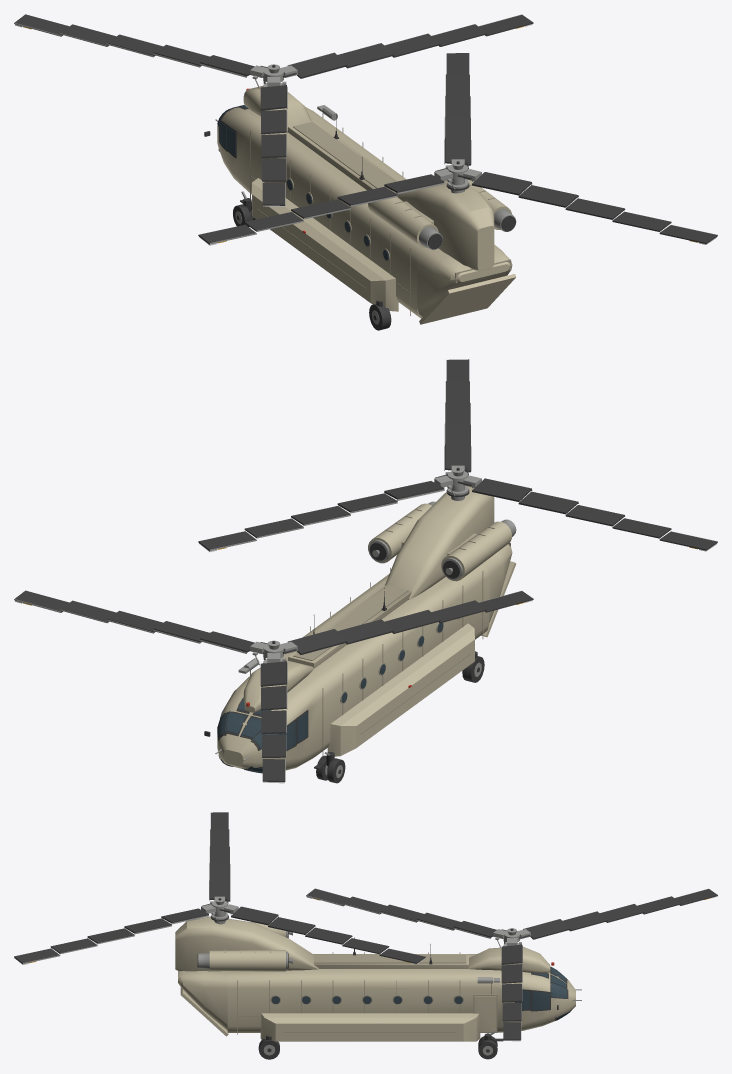
Rendered from usa_heli_ch47.glb.
3 renders of one model, top to bottom at view 1: azimuth 30°, elevation 25°; view 2: azimuth 150°, elevation 25°; view 3: azimuth 270°, elevation 25°, orthographic. The views are drawn at different scales.
Visible parts, largest first — view 1: body, trotor, rotor, ramp; view 2: body, trotor, rotor; view 3: body, trotor, rotor.
Boxes of the visible parts, x1,y1,x2,y2 form: body: (204, 85, 516, 330); trotor: (198, 53, 717, 245); rotor: (14, 14, 533, 206); ramp: (419, 274, 515, 324); body: (204, 485, 516, 783); trotor: (198, 359, 717, 551); rotor: (14, 590, 533, 783); body: (175, 912, 581, 1059); trotor: (14, 812, 425, 964); rotor: (306, 888, 717, 1041).
Size of the model in its own units: 18.31 by 6.14 by 27.71.
